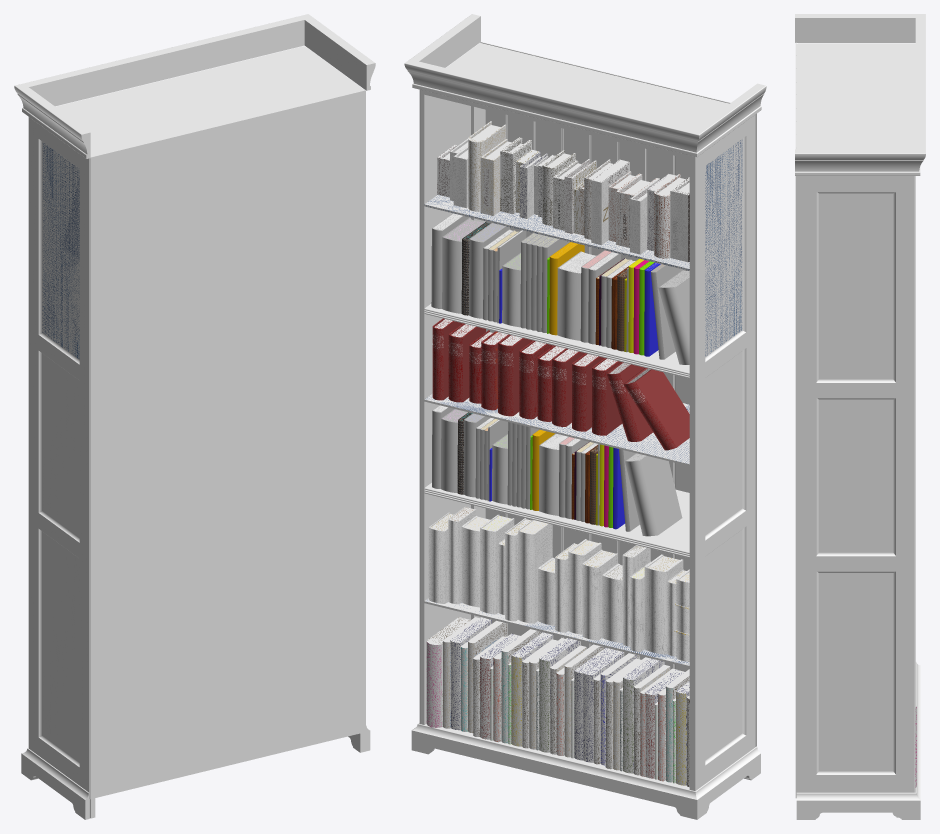
3 views of the same model, side by side, from view 1: azimuth 30°, elevation 25°; view 2: azimuth 150°, elevation 25°; view 3: azimuth 270°, elevation 25° (orthographic). The views are drawn at different scales.
Visible parts, largest first — view 1: mesh7_mesh7-geometry, mesh11_mesh11-geometry, mesh1_mesh1-geometry, mesh9_mesh9-geometry, mesh507_mesh507-geometry, mesh509_mesh509-geometry, mesh511_mesh511-geometry, mesh153_mesh153-geometry, mesh22_mesh22-geometry, mesh3_mesh3-geometry; view 2: mesh11_mesh11-geometry, mesh479_mesh479-geometry, mesh293_mesh293-geometry, mesh7_mesh7-geometry, mesh1_mesh1-geometry, mesh3_mesh3-geometry, mesh9_mesh9-geometry, mesh507_mesh507-geometry, mesh509_mesh509-geometry, mesh151_mesh151-geometry, mesh24_mesh24-geometry, mesh511_mesh511-geometry (+62 smaller); view 3: mesh11_mesh11-geometry, mesh510_mesh510-geometry, mesh508_mesh508-geometry, mesh1_mesh1-geometry, mesh506_mesh506-geometry, mesh3_mesh3-geometry, mesh22_mesh22-geometry, mesh153_mesh153-geometry, mesh7_mesh7-geometry, mesh9_mesh9-geometry.
Boxes of the visible parts, <box> form: mesh7_mesh7-geometry: <box>89,90,365,799</box>; mesh11_mesh11-geometry: <box>28,46,365,818</box>; mesh1_mesh1-geometry: <box>56,47,359,155</box>; mesh9_mesh9-geometry: <box>24,16,304,106</box>; mesh507_mesh507-geometry: <box>42,532,79,762</box>; mesh509_mesh509-geometry: <box>42,142,79,359</box>; mesh511_mesh511-geometry: <box>42,354,79,537</box>; mesh153_mesh153-geometry: <box>300,14,375,90</box>; mesh22_mesh22-geometry: <box>14,83,90,158</box>; mesh3_mesh3-geometry: <box>21,725,370,819</box>; mesh11_mesh11-geometry: <box>419,43,755,790</box>; mesh479_mesh479-geometry: <box>428,506,689,661</box>; mesh293_mesh293-geometry: <box>437,121,689,262</box>; mesh7_mesh7-geometry: <box>480,42,756,746</box>; mesh1_mesh1-geometry: <box>424,44,729,159</box>; mesh3_mesh3-geometry: <box>411,723,760,819</box>; mesh9_mesh9-geometry: <box>413,61,694,156</box>; mesh507_mesh507-geometry: <box>705,530,742,760</box>; mesh509_mesh509-geometry: <box>705,139,742,356</box>; mesh151_mesh151-geometry: <box>424,304,689,557</box>; mesh24_mesh24-geometry: <box>424,195,689,665</box>; mesh511_mesh511-geometry: <box>705,351,742,535</box>; mesh11_mesh11-geometry: <box>796,43,915,817</box>; mesh510_mesh510-geometry: <box>819,573,893,771</box>; mesh508_mesh508-geometry: <box>819,193,893,379</box>; mesh1_mesh1-geometry: <box>796,46,915,149</box>; mesh506_mesh506-geometry: <box>819,399,893,552</box>; mesh3_mesh3-geometry: <box>796,661,920,819</box>; mesh22_mesh22-geometry: <box>795,14,925,42</box>; mesh153_mesh153-geometry: <box>795,149,925,175</box>; mesh7_mesh7-geometry: <box>795,42,796,798</box>; mesh9_mesh9-geometry: <box>915,18,925,169</box>.
Bounding box in the file's own units: 0.4039 × 0.9007 × 0.1599.
